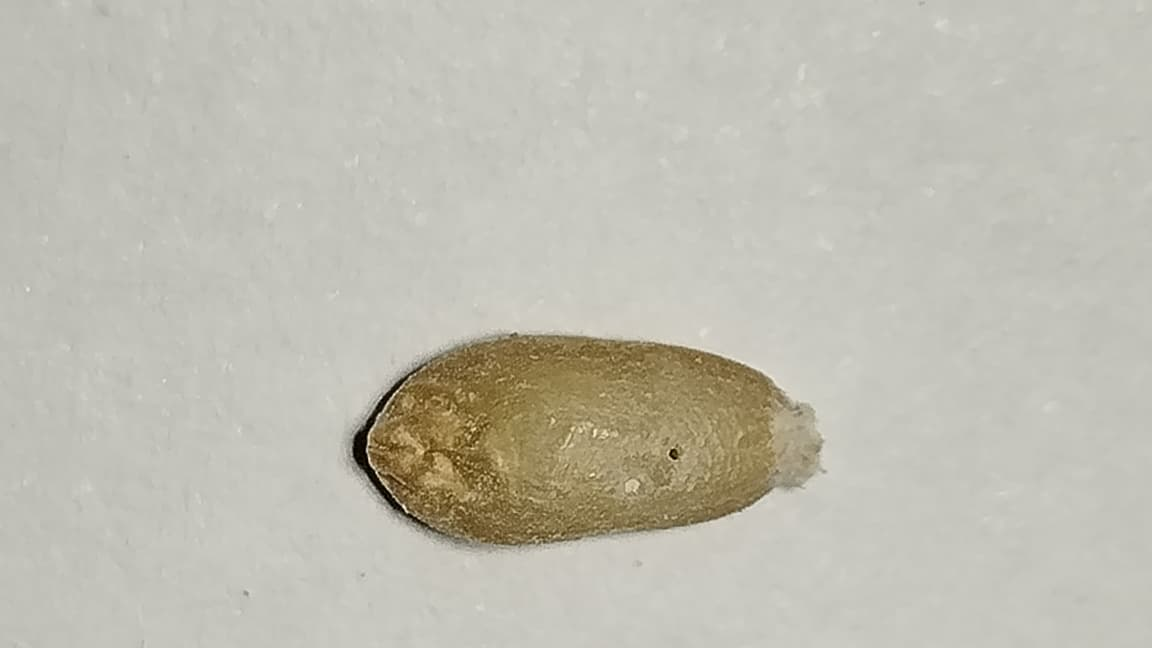damage: (352, 328, 823, 554)
insectdamage: (594, 419, 731, 546)
